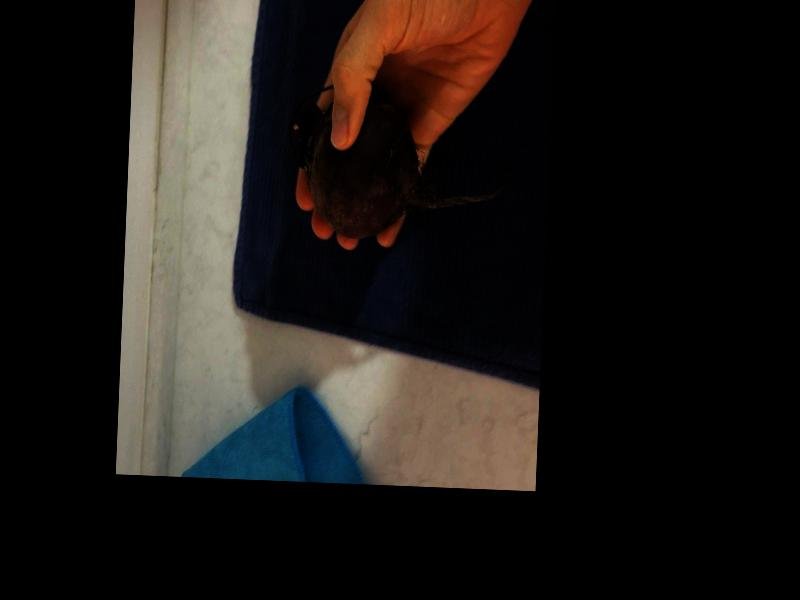Beet: (286, 82, 507, 243)
